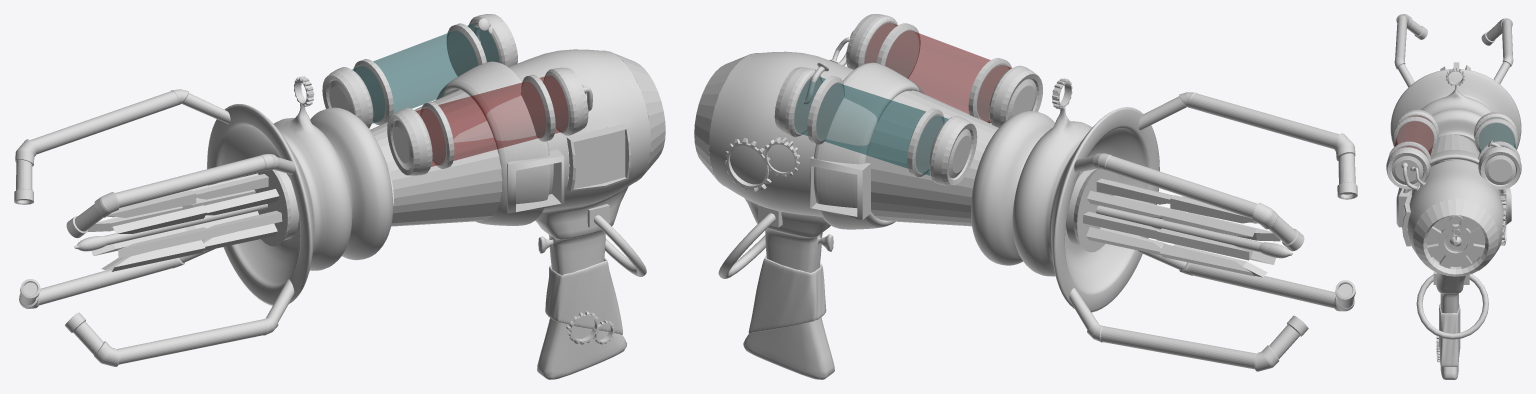
The model's file is gun_test.FBX.
3 renders of one model, left to right at view 1: azimuth 30°, elevation 25°; view 2: azimuth 150°, elevation 25°; view 3: azimuth 270°, elevation 25°, orthographic. The views are drawn at different scales.
Visible parts, largest first — view 1: Cylinder003, tretekstur_gun, tretekstur_gun001, Cylinder008, Cylinder020, Cylinder004, Cylinder005, Cylinder001, belt_under, Cylinder009, Cylinder010, cablebox (+18 smaller); view 2: Cylinder003, tretekstur_gun, tretekstur_gun001, Cylinder020, Cylinder008, Cylinder001, Cylinder002, belt_under, Cylinder004, Cylinder022, Cylinder021, Cylinder009 (+16 smaller); view 3: Cylinder003, tretekstur_gun_ende, Cylinder021, Cylinder010, Cylinder009, Cylinder022, Torus001, belt_under, Cylinder001, Cylinder004, Cylinder008, tretekstur_gun (+8 smaller).
Boxes of the visible parts, x1,y1,x2,y2 form: Cylinder003: [207, 49, 650, 379]; tretekstur_gun: [370, 89, 502, 226]; tretekstur_gun001: [436, 61, 550, 225]; Cylinder008: [416, 75, 568, 166]; Cylinder020: [352, 23, 498, 123]; Cylinder004: [14, 89, 230, 204]; Cylinder005: [65, 279, 294, 366]; Cylinder001: [66, 154, 298, 238]; belt_under: [545, 257, 622, 334]; Cylinder009: [387, 101, 454, 175]; Cylinder010: [521, 67, 588, 141]; cablebox: [566, 123, 630, 191]; Cylinder003: [709, 51, 1159, 379]; tretekstur_gun: [866, 90, 998, 226]; tretekstur_gun001: [814, 62, 925, 229]; Cylinder020: [794, 77, 947, 175]; Cylinder008: [864, 23, 1011, 122]; Cylinder001: [1138, 92, 1357, 199]; Cylinder002: [1069, 288, 1308, 371]; belt_under: [748, 256, 826, 334]; Cylinder004: [1074, 153, 1304, 251]; Cylinder022: [907, 108, 977, 185]; Cylinder021: [774, 67, 844, 144]; Cylinder009: [968, 58, 1042, 127]; Cylinder003: [1390, 69, 1521, 379]; tretekstur_gun_ende: [1413, 199, 1498, 276]; Cylinder021: [1478, 141, 1521, 189]; Cylinder010: [1386, 141, 1430, 189]; Cylinder009: [1394, 109, 1439, 151]; Cylinder022: [1474, 112, 1517, 152]; Torus001: [1416, 274, 1488, 339]; belt_under: [1439, 303, 1460, 367]; Cylinder001: [1394, 14, 1427, 90]; Cylinder004: [1481, 18, 1513, 83]; Cylinder008: [1394, 116, 1433, 155]; tretekstur_gun: [1428, 134, 1479, 165].
Size of the model in its own units: 212 by 120 by 65.83.
